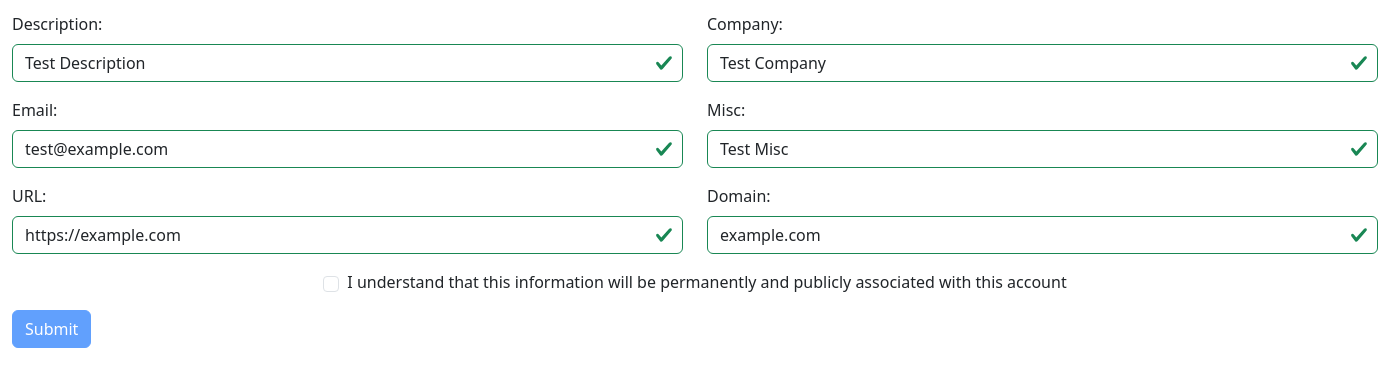
EditAccountForm › requires checkbox to be checked before submission
Expected: the button "Submit" is disabled, [12,310,91,348]
Click the checkbox at (331, 284), box [323,276,339,292]
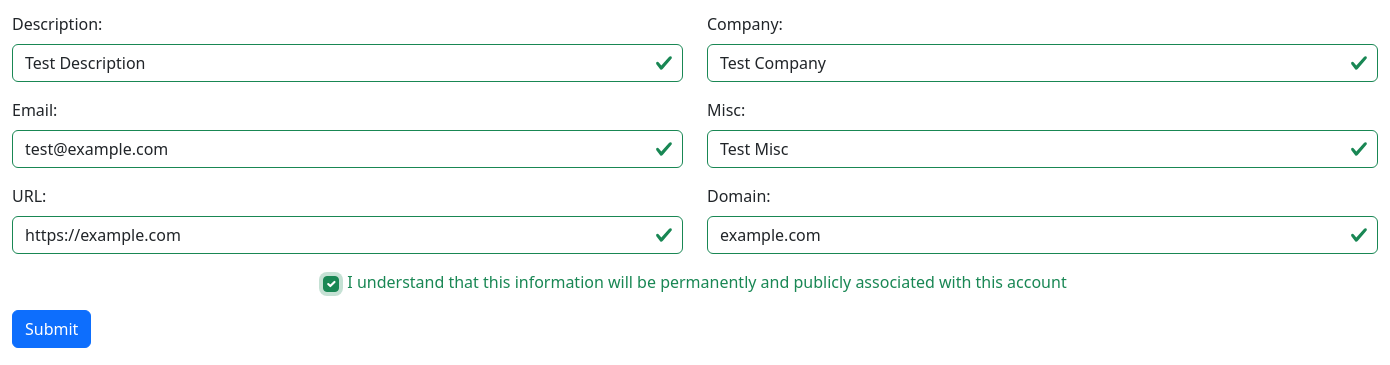
Expected: the button "Submit" is enabled, [12,310,91,348]
